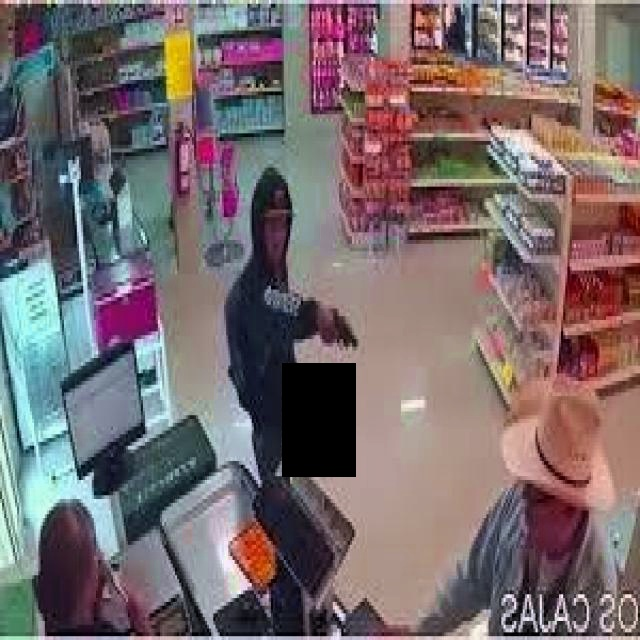gun: (317, 308, 362, 350)
